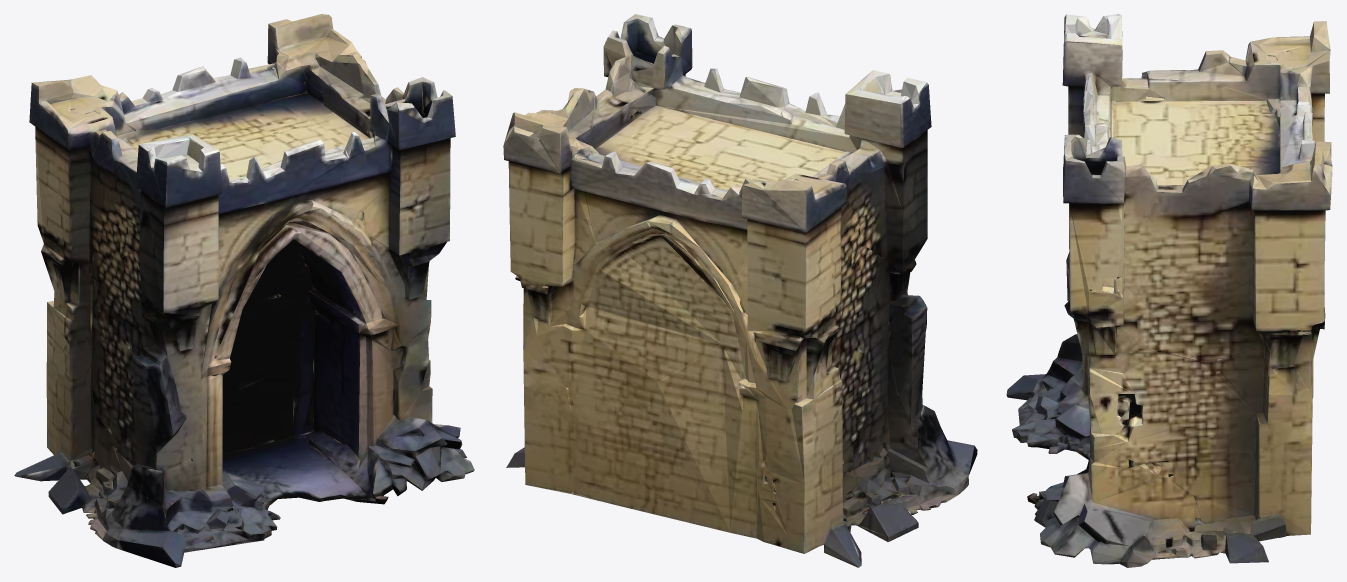
File: war_gatehouse_ruin_01.glb
3 renders of one model, left to right at view 1: azimuth 30°, elevation 25°; view 2: azimuth 150°, elevation 25°; view 3: azimuth 270°, elevation 25°, orthographic. The views are drawn at different scales.
Parts seen in each view (by area): view 1: geometry_0; view 2: geometry_0; view 3: geometry_0.
Boxes of the visible parts, x1=… form: geometry_0: x1=14, y1=14, x2=474, y2=567; geometry_0: x1=503, y1=14, x2=977, y2=567; geometry_0: x1=1006, y1=14, x2=1332, y2=567.
Size of the model in its own units: 0.9964 by 0.9945 by 0.7449.
1 material, 1 textured.
